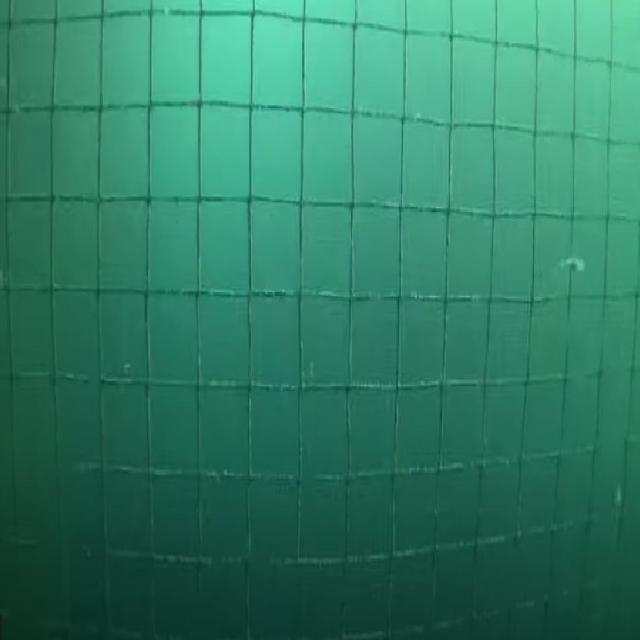fence line: (6, 13, 640, 633)
